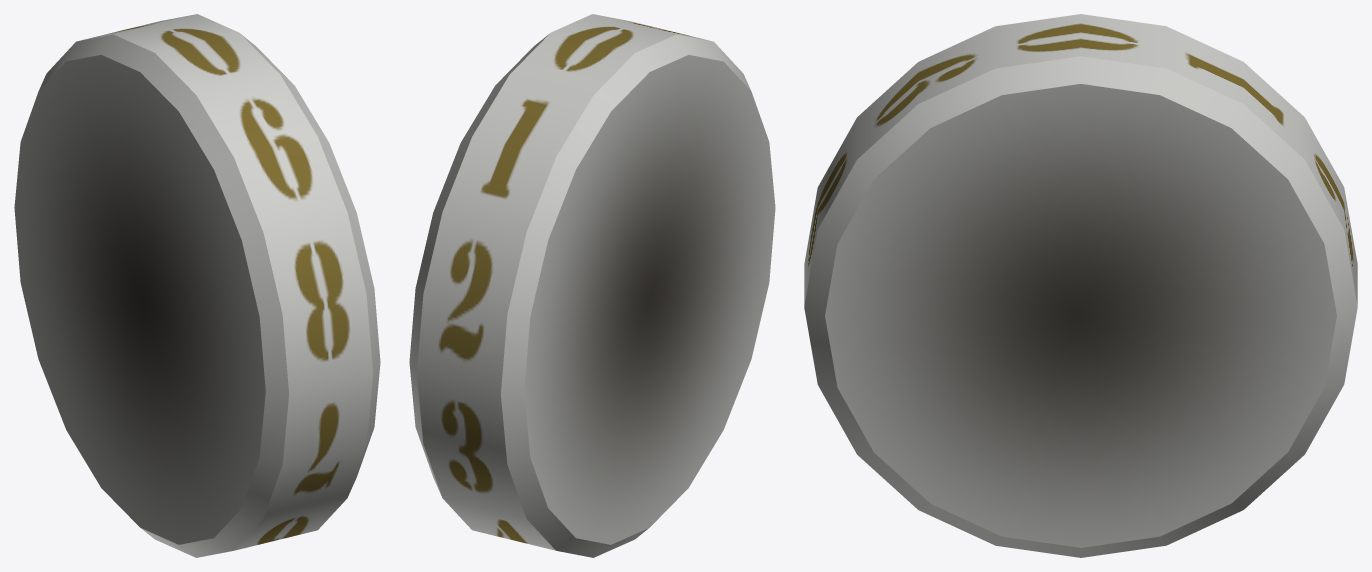
Rendered from Serrure.fbx.
3 views of the same model, side by side, from view 1: azimuth 30°, elevation 25°; view 2: azimuth 150°, elevation 25°; view 3: azimuth 270°, elevation 25° (orthographic). The views are drawn at different scales.
Visible parts, largest first — view 1: pCylinder3; view 2: pCylinder3; view 3: pCylinder3.
Boxes of the visible parts, x1,y1,x2,y2 form: pCylinder3: (14,14,380,557); pCylinder3: (409,14,775,557); pCylinder3: (804,14,1357,557).
Size of the model in its own units: 0.5 by 2 by 2.
